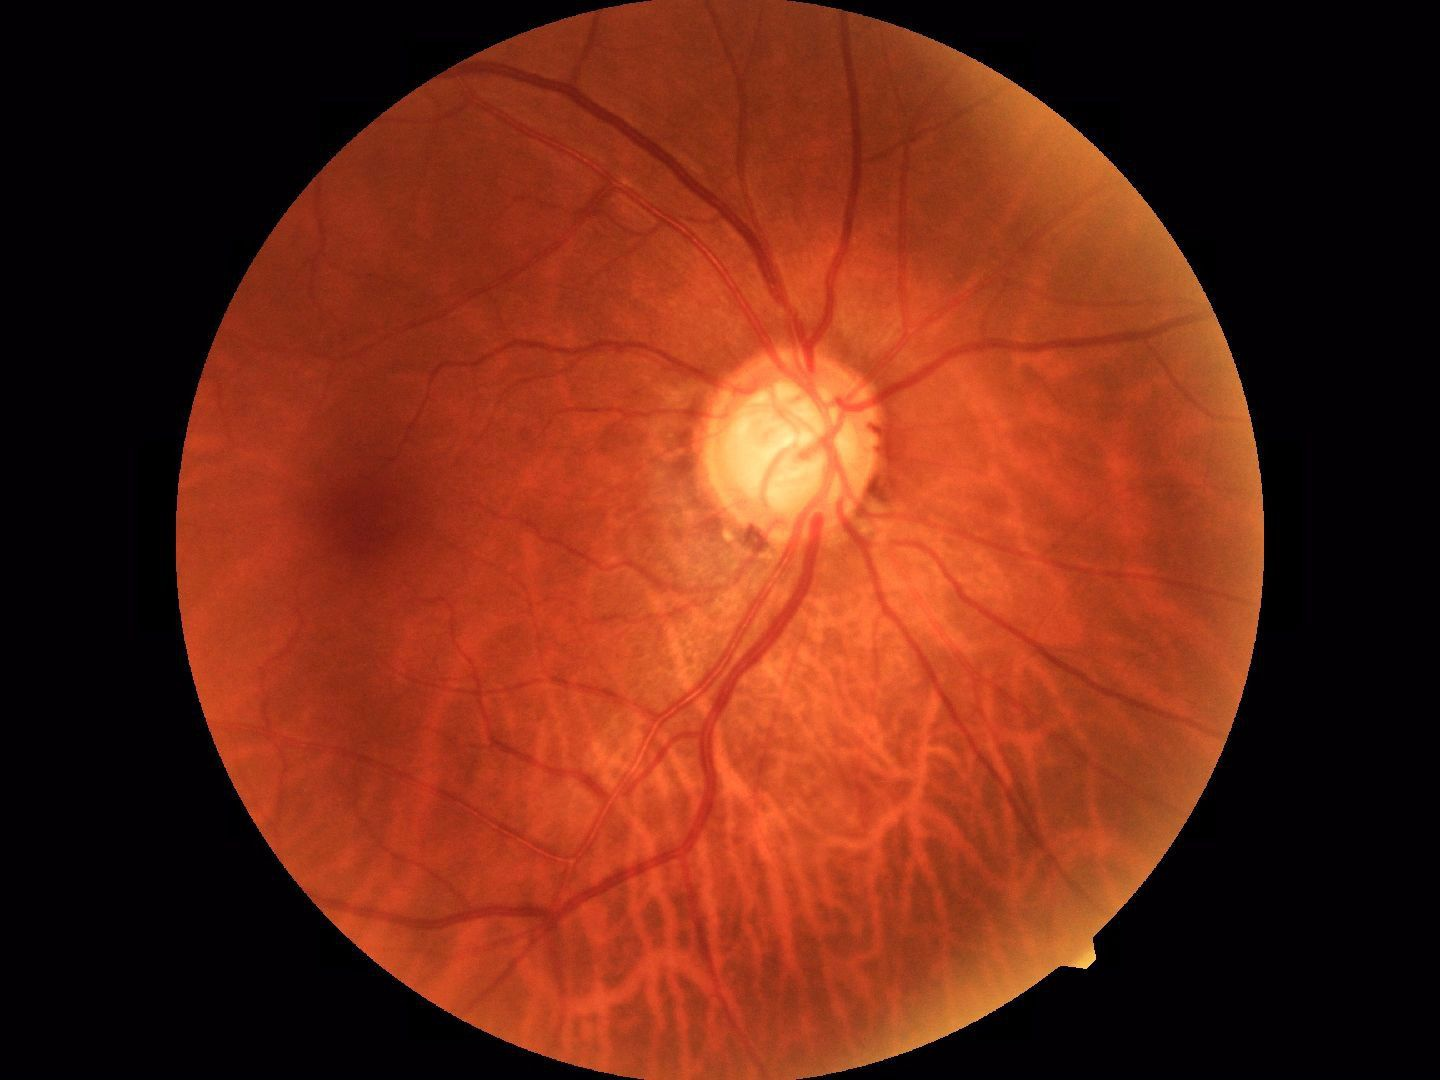Arterioles: (427, 686, 669, 901), (989, 538, 1146, 843)
Hemorrhages: (253, 376, 466, 611)
Optic-Disc: (680, 339, 893, 556)
Venules: (560, 81, 804, 277)
